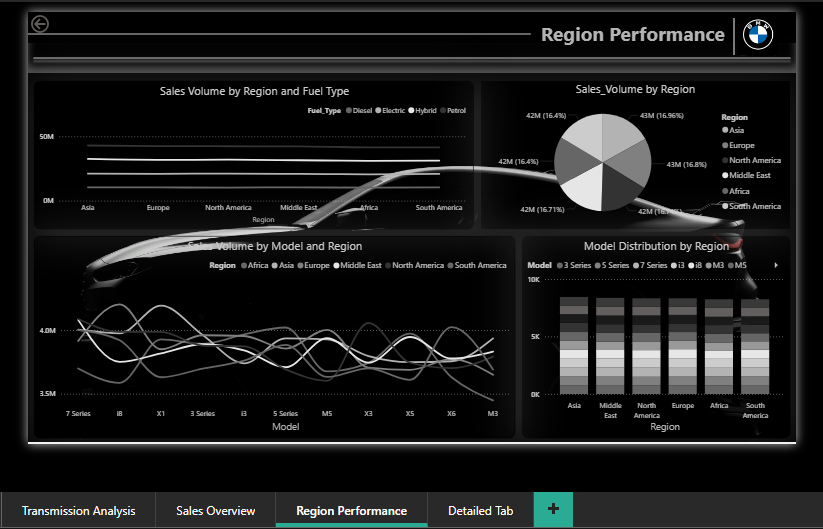

Layout of this report page (visuals, bound fields, positions):
{"tool":"powerbi","page":{"name":"Region Performance","canvas":[1280,720],"ordinal":2},"visuals":[{"type":"columnChart","title":"Model Distribution by Region","fields":{"Category":["BMW sales data (2010-2024).Region"],"Y":["CountNonNull(BMW sales data (2010-2024).Model)"],"Series":["BMW sales data (2010-2024).Model"]},"box":[823.3,373.3,446.7,336.7],"z":0},{"type":"stackedAreaChart","title":"Sales Volume by Region and Fuel Type","fields":{"Y":["Sum(BMW sales data (2010-2024).Sales_Volume)"],"Category":["BMW sales data (2010-2024).Region"],"Series":["BMW sales data (2010-2024).Fuel_Type"]},"box":[10,115,733.3,246.7],"z":1000},{"type":"lineChart","title":"Sales Volume by Model and Region","fields":{"Category":["BMW sales data (2010-2024).Model"],"Y":["Sum(BMW sales data (2010-2024).Sales_Volume)"],"Series":["BMW sales data (2010-2024).Region"]},"box":[10,373.3,801.7,336.7],"z":2000},{"type":"pieChart","title":"Sales_Volume by Region","fields":{"Y":["Sum(BMW sales data (2010-2024).Sales_Volume)"],"Category":["BMW sales data (2010-2024).Region"]},"box":[755,115,515,246.7],"z":3000},{"type":"textbox","box":[0,0,1166.7,71.7],"z":4000},{"type":"shape","box":[0,51.7,1280,50],"z":5000},{"type":"image","box":[1168.3,6.7,96.7,66.7],"z":6000},{"type":"shape","box":[0,11.7,838.3,50],"z":7000},{"type":"shape","box":[1121.7,10,110,61.7],"z":8000},{"type":"actionButton","box":[0,0,100,40],"z":10001}]}

Visuals, with their boxes on the page's 1280x720 design canvas (x1, y1, x2, y2). These are canvas units, not pixel positions in the 823x529 screenshot, which may show the page scaled, cropped or inside an application window:
"Model Distribution by Region" columnChart: crop(823, 373, 1270, 710)
"Sales Volume by Region and Fuel Type" stackedAreaChart: crop(10, 115, 743, 362)
"Sales Volume by Model and Region" lineChart: crop(10, 373, 812, 710)
"Sales_Volume by Region" pieChart: crop(755, 115, 1270, 362)
textbox: crop(0, 0, 1167, 72)
shape: crop(0, 52, 1280, 102)
image: crop(1168, 7, 1265, 73)
shape: crop(0, 12, 838, 62)
shape: crop(1122, 10, 1232, 72)
actionButton: crop(0, 0, 100, 40)
